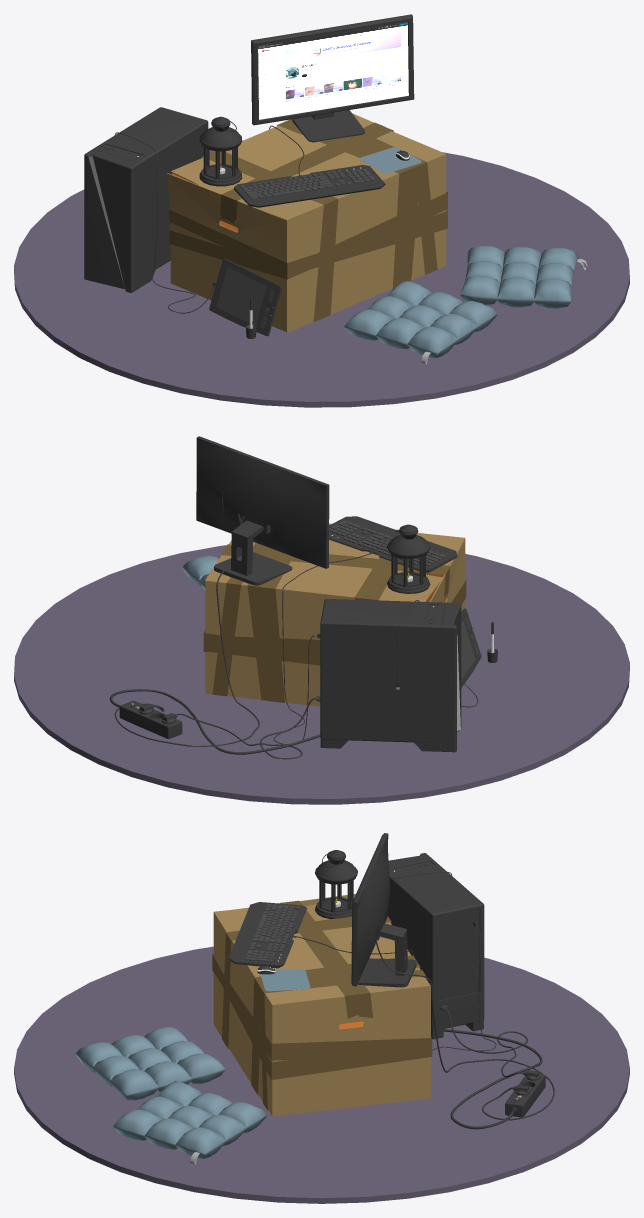
Rendered from computer.glb.
3 views of the same model, one above another, from view 1: azimuth 30°, elevation 25°; view 2: azimuth 150°, elevation 25°; view 3: azimuth 270°, elevation 25° (orthographic).
Parts seen in each view (by area): view 1: carpet, comp, screen, polySurface118, polySurface117, polySurface151_pillow_0.001, polySurface151, polySurface113, boxtop2, polySurface263, polySurface123, boxtop (+14 smaller); view 2: carpet, comp, polySurface263, polySurface118, boxtop2, boxtop_tape5, boxtop_tape7, polySurface1, boxtop_tape6, polySurface123, polySurface265, polySurface264 (+11 smaller); view 3: carpet, polySurface118, comp, polySurface151, polySurface151_pillow_0.001, polySurface263, polySurface123, polySurface113, boxtop, polySurface1, boxtop2, boxtop_tape (+12 smaller).
Part boxes in pixels (x1,y1,x2,y2): carpet: (14, 150, 629, 407); comp: (84, 107, 208, 292); screen: (258, 22, 408, 119); polySurface118: (171, 155, 446, 332); polySurface117: (166, 173, 287, 332); polySurface151_pillow_0.001: (344, 280, 497, 358); polySurface151: (460, 245, 578, 308); polySurface113: (169, 192, 447, 279); boxtop2: (170, 113, 373, 193); polySurface263: (251, 14, 414, 125); polySurface123: (169, 209, 447, 269); boxtop: (238, 131, 446, 220); carpet: (14, 545, 629, 804); comp: (320, 599, 461, 752); polySurface263: (196, 436, 329, 568); polySurface118: (205, 572, 446, 706); boxtop2: (205, 555, 442, 601); boxtop_tape5: (259, 558, 290, 702); boxtop_tape7: (212, 543, 268, 696); polySurface1: (329, 516, 457, 572); boxtop_tape6: (247, 548, 281, 701); polySurface123: (203, 580, 466, 654); polySurface265: (214, 552, 292, 585); polySurface264: (231, 520, 263, 575); carpet: (14, 946, 629, 1203); polySurface118: (214, 914, 430, 1116); comp: (387, 853, 484, 1039); polySurface151: (113, 1081, 266, 1158); polySurface151_pillow_0.001: (75, 1026, 224, 1100); polySurface263: (351, 833, 389, 986); polySurface123: (212, 953, 432, 1079); polySurface113: (212, 958, 432, 1060); boxtop: (214, 908, 344, 1005); polySurface1: (228, 902, 307, 968); boxtop2: (305, 896, 430, 993); boxtop_tape: (280, 900, 373, 1017).
Size of the model in its own units: 12.26 by 4.91 by 12.26.
Materials: 29 (1 with a texture image).
